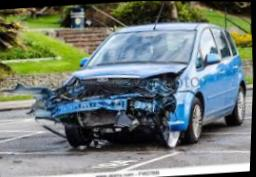Bumper: (31, 91, 188, 129)
Light: (146, 73, 180, 93), (52, 86, 81, 101)
